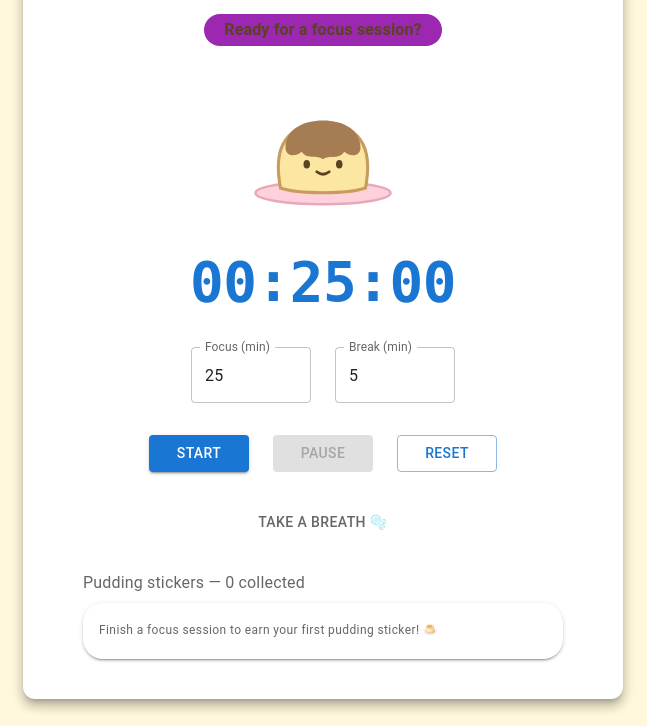
Scenario: Pomodoro › reveals the breathing guide on demand
Click the button "Take a breath 🫧" at (323, 522), box [250,504,396,540]
(page scrolled)
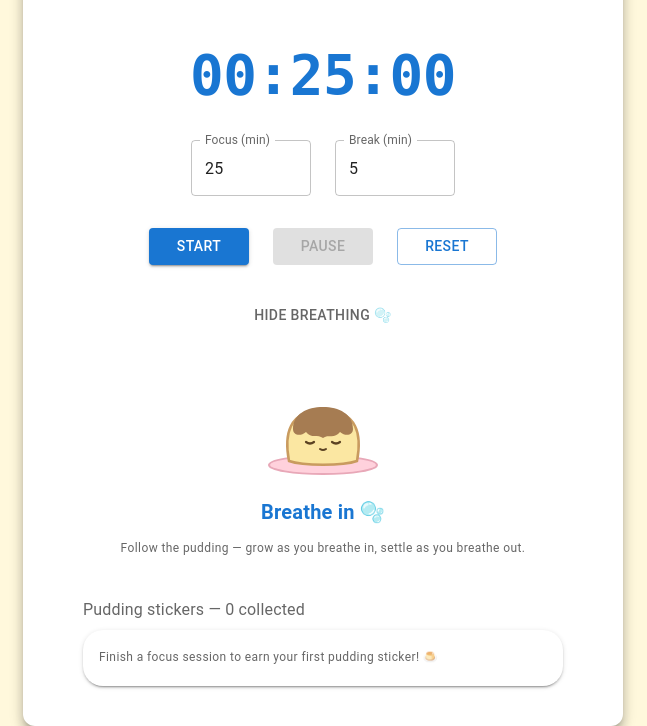
Check: the text "Breathe in 🫧" is shown, box [261,497,385,527]
